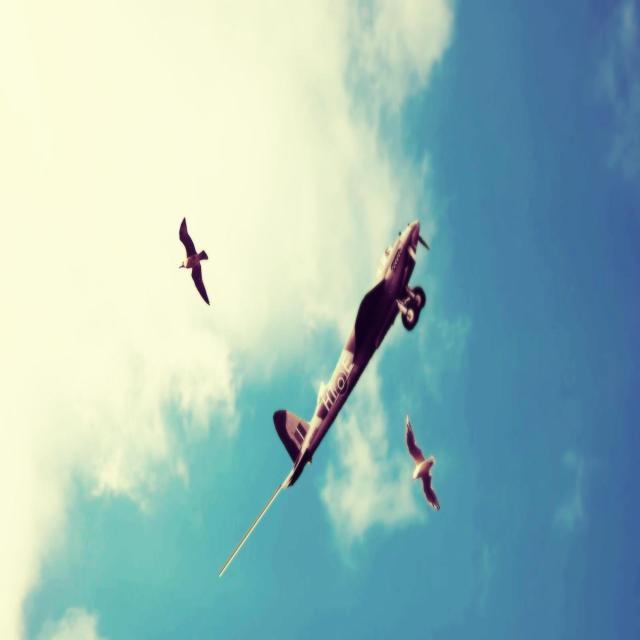airplane: (218, 218, 430, 577)
